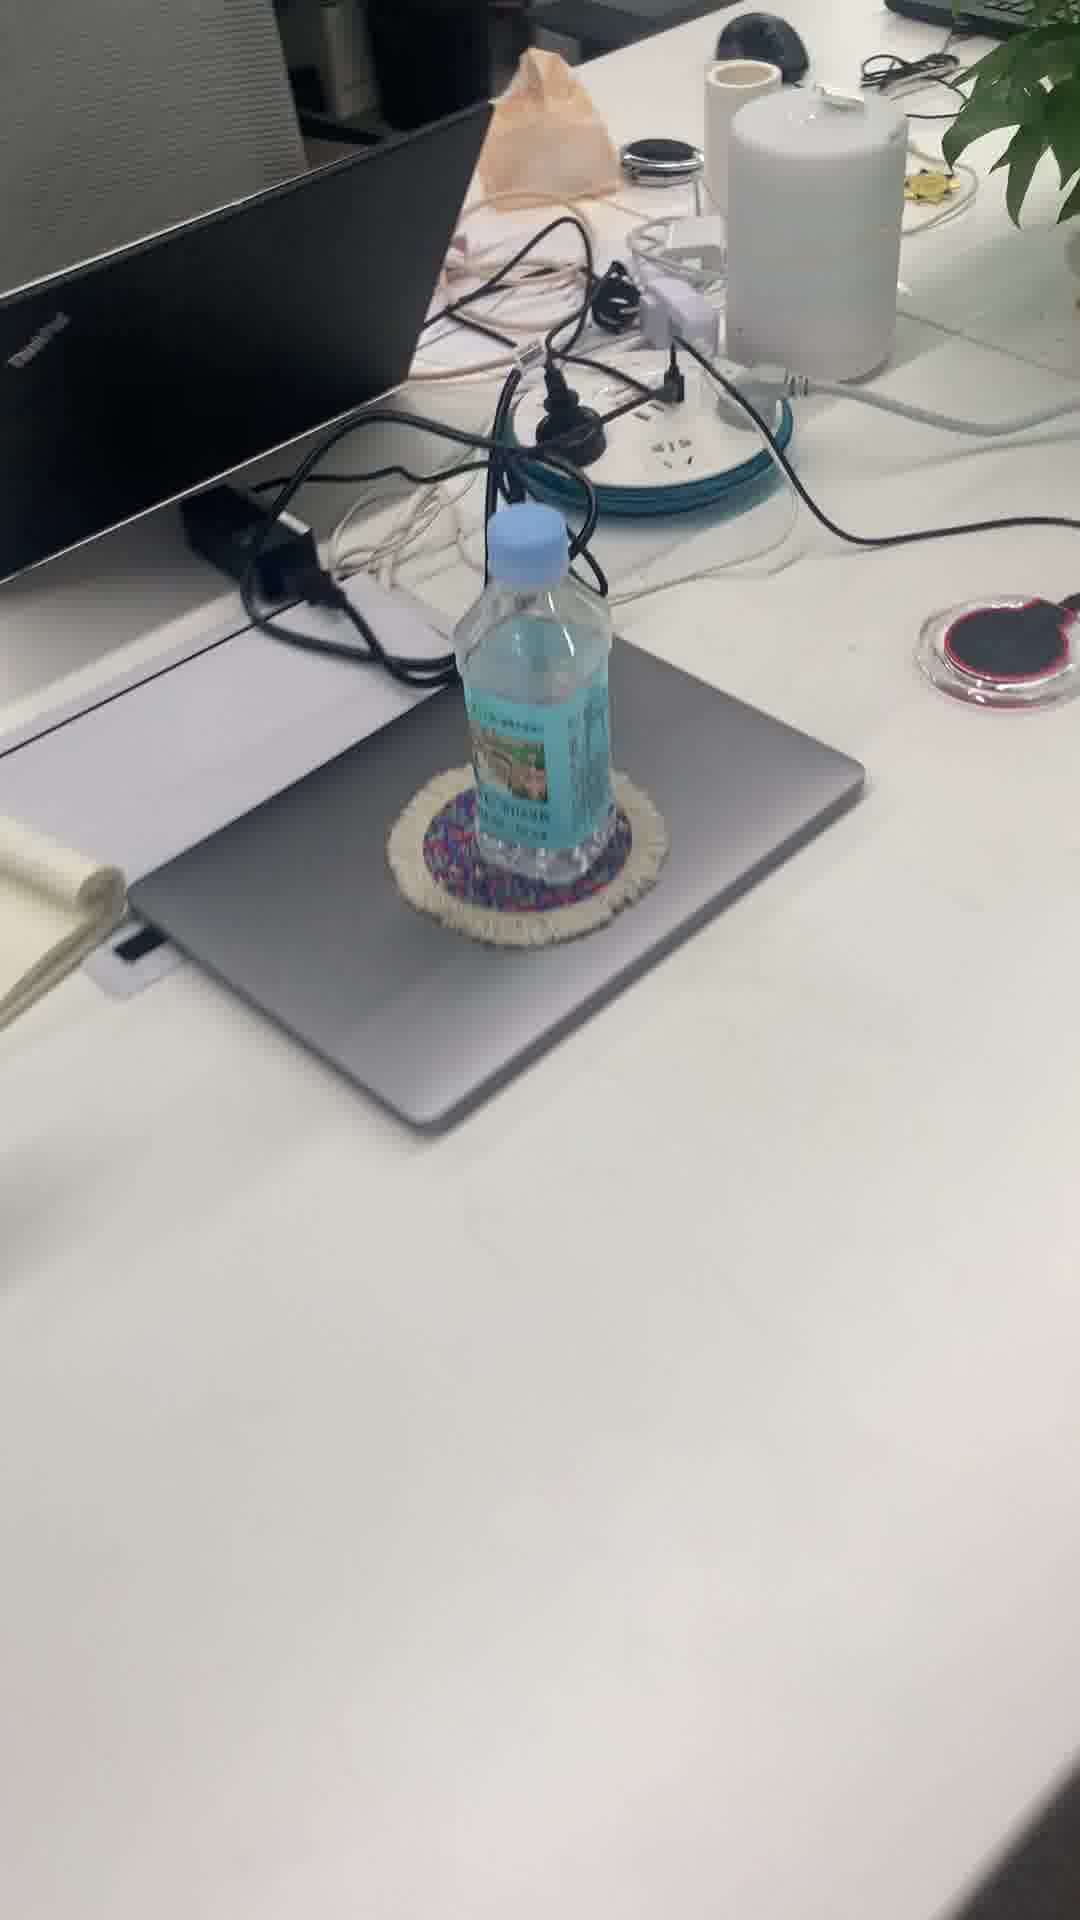水瓶: (444, 506, 632, 890)
